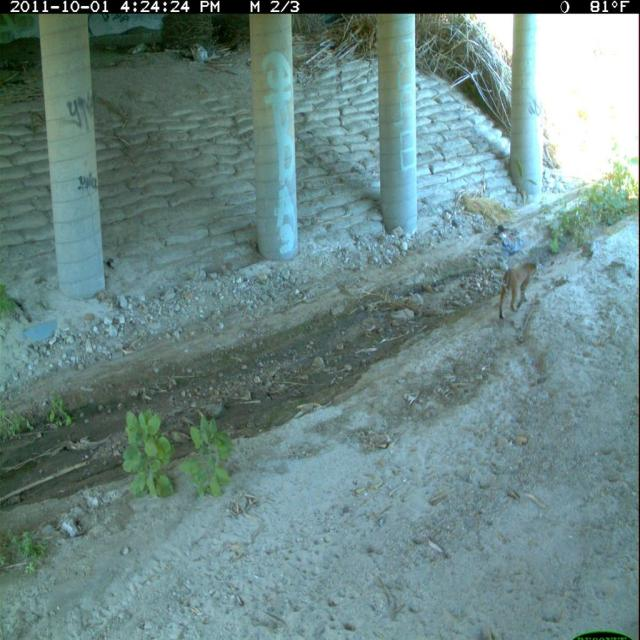bobcat: (496, 257, 542, 324)
